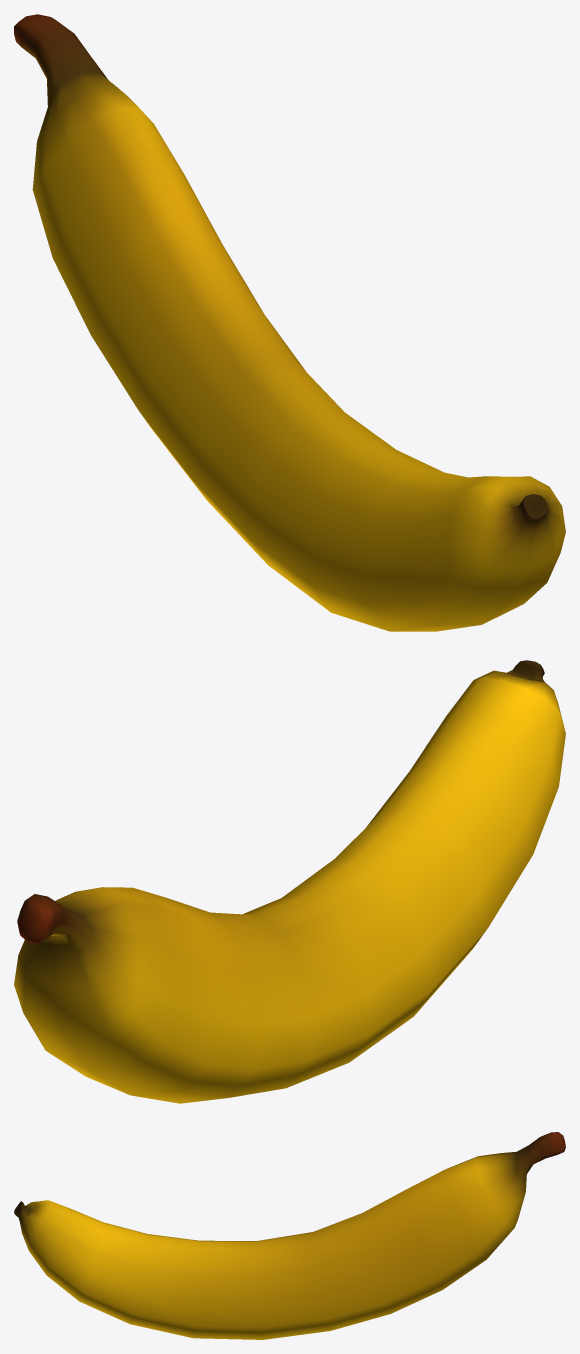
File: banaan.glb
3 views of the same model, one above another, from view 1: azimuth 30°, elevation 25°; view 2: azimuth 150°, elevation 25°; view 3: azimuth 270°, elevation 25° (orthographic). The views are drawn at different scales.
Parts seen in each view (by area): view 1: Cube; view 2: Cube; view 3: Cube.
Part boxes in pixels (left/top/right/bottom): Cube: left=14, top=14, right=565, bottom=631; Cube: left=14, top=660, right=565, bottom=1103; Cube: left=14, top=1132, right=565, bottom=1339.
Bounding box in the file's own units: 1.89 × 4.99 × 12.71.
